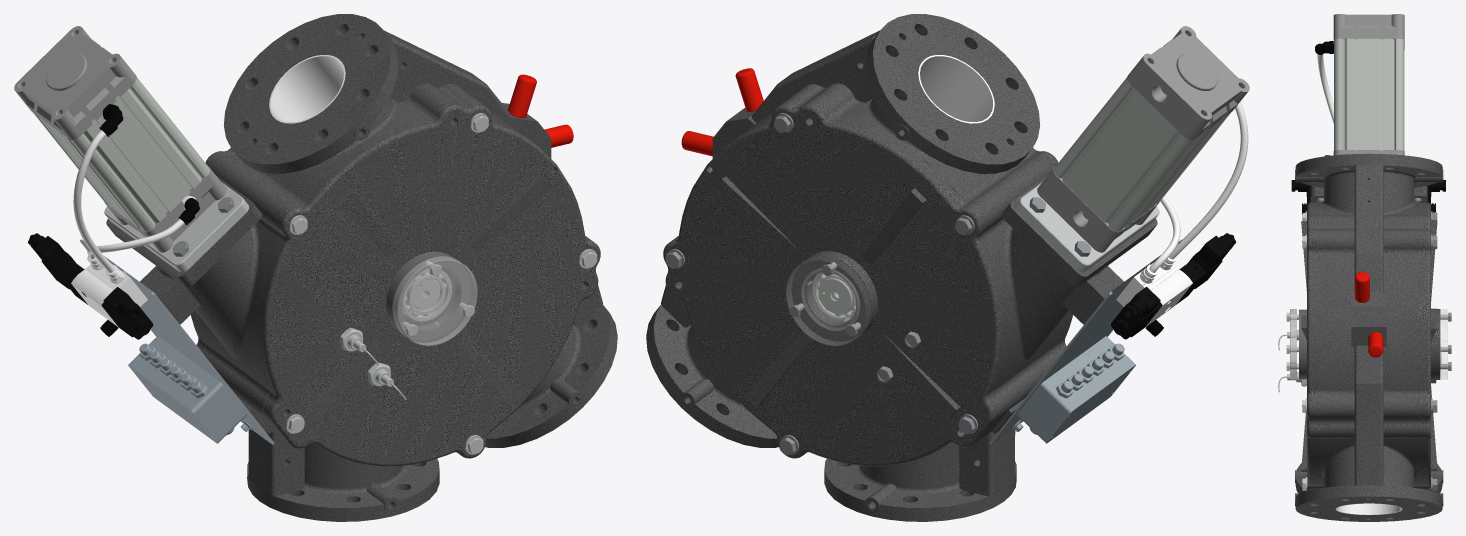
Rendered from DTD-model.glb.
3 views of the same model, side by side, from view 1: azimuth 30°, elevation 25°; view 2: azimuth 150°, elevation 25°; view 3: azimuth 270°, elevation 25° (orthographic). The views are drawn at different scales.
Parts seen in each view (by area): view 1: Solid138001, Solid1130, Solid153001, Solid153, Solid1002, Solid138011, Solid166, Solid138002, Solid159, Solid1023, NurbsPath008, Solid1035 (+5 smaller); view 2: Solid144, Solid1130, Solid153001, Solid153, Solid1002, Solid137, Solid166, Solid159, Solid1023, NurbsPath008, Solid1035, Solid187 (+2 smaller); view 3: Solid1130, Solid153001, Solid144, Solid138001, Solid153, Cylinder, Solid166, Solid137, Solid1023, Solid138011, Solid138002, NurbsPath008 (+5 smaller).
Boxes of the visible parts, x1,y1,x2,y2 form: Solid138001: (256, 99, 600, 466); Solid1130: (106, 14, 617, 521); Solid153001: (33, 77, 209, 231); Solid153: (14, 26, 226, 252); Solid1002: (80, 239, 274, 444); Solid138011: (393, 256, 477, 345); Solid166: (269, 55, 345, 123); Solid138002: (386, 251, 471, 340); Solid159: (104, 182, 248, 272); Solid1023: (28, 233, 153, 339); NurbsPath008: (73, 130, 184, 272); Solid1035: (71, 263, 147, 327); Solid144: (663, 99, 1007, 466); Solid1130: (646, 14, 1157, 521); Solid153001: (1054, 77, 1230, 231); Solid153: (1037, 26, 1249, 252); Solid1002: (989, 239, 1182, 444); Solid137: (786, 256, 870, 345); Solid166: (918, 55, 994, 123); Solid159: (1015, 182, 1159, 272); Solid1023: (1111, 233, 1236, 339); NurbsPath008: (1149, 102, 1248, 272); Solid1035: (1116, 263, 1192, 327); Solid187: (665, 113, 977, 455); Solid1130: (1295, 153, 1443, 521); Solid153001: (1334, 38, 1404, 150); Solid144: (1417, 202, 1440, 490); Solid138001: (1301, 202, 1320, 490); Solid153: (1333, 14, 1404, 155); Cylinder: (1355, 271, 1383, 357); Solid166: (1335, 503, 1402, 514); Solid137: (1440, 309, 1447, 379); Solid1023: (1291, 180, 1445, 214); Solid138011: (1290, 309, 1296, 379); Solid138002: (1299, 309, 1306, 379); NurbsPath008: (1317, 54, 1333, 123).
Size of the model in its own units: 30.55 by 25.69 by 10.57.
20 materials, 1 textured.
